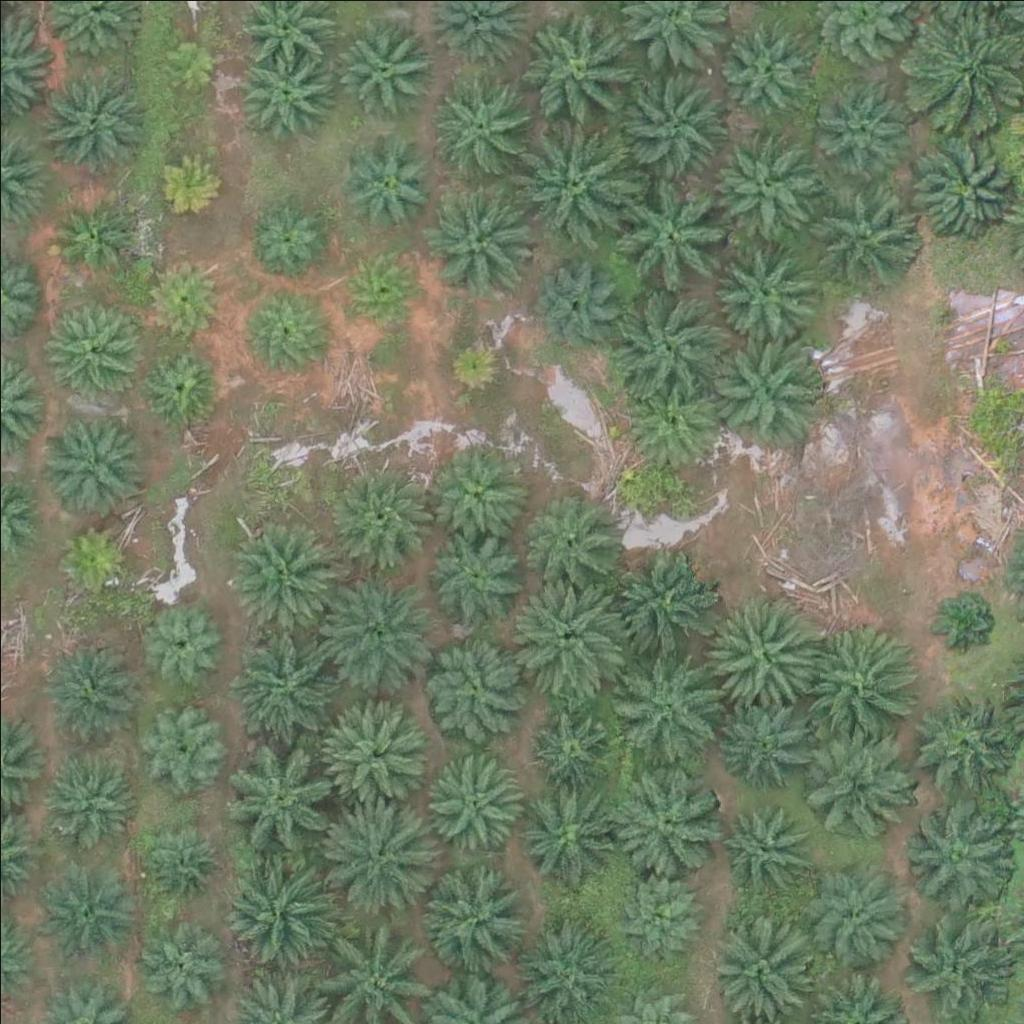Kelapa_Sawit: (35, 67, 148, 181), (317, 791, 430, 905), (616, 67, 729, 180), (910, 14, 1023, 127), (223, 851, 336, 964), (230, 735, 343, 848), (615, 661, 728, 774), (602, 544, 715, 657), (708, 597, 821, 710), (803, 856, 916, 969), (803, 737, 916, 850), (811, 623, 924, 736), (519, 120, 632, 233), (613, 171, 726, 284), (708, 328, 821, 441), (906, 796, 1019, 909), (232, 619, 344, 733), (228, 515, 340, 629), (326, 458, 438, 572), (613, 762, 725, 876), (524, 11, 636, 124), (318, 570, 430, 683), (318, 697, 430, 810), (426, 861, 538, 974), (511, 773, 623, 886), (511, 585, 623, 698), (700, 910, 812, 1023), (423, 184, 535, 297), (608, 288, 720, 401), (706, 138, 818, 251), (812, 175, 924, 288), (235, 43, 335, 144), (341, 130, 441, 231), (334, 14, 434, 115), (428, 74, 528, 175), (39, 753, 139, 854), (38, 644, 138, 745), (45, 407, 145, 508), (46, 299, 146, 400), (424, 747, 524, 848), (424, 635, 524, 736), (422, 526, 522, 627), (527, 487, 627, 588), (714, 690, 814, 791), (710, 803, 810, 904), (621, 370, 721, 471), (713, 236, 813, 337), (910, 689, 1010, 790), (37, 851, 137, 951), (422, 441, 522, 541), (47, 516, 135, 604), (239, 288, 327, 376), (239, 196, 327, 284), (141, 256, 229, 344), (133, 345, 221, 433), (138, 600, 226, 688), (134, 708, 222, 796), (531, 702, 619, 790), (614, 872, 702, 960), (526, 263, 614, 351), (719, 22, 806, 110), (817, 77, 904, 165), (339, 246, 426, 334), (49, 196, 136, 284), (137, 816, 224, 904), (137, 921, 224, 1009), (149, 146, 224, 222), (925, 586, 1000, 661), (446, 330, 509, 393), (157, 30, 219, 93)
